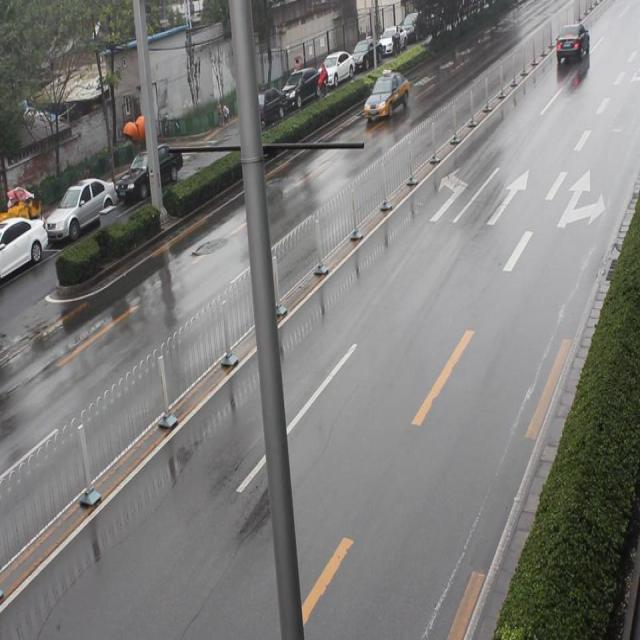car: (362, 66, 409, 128), (551, 20, 590, 64)
